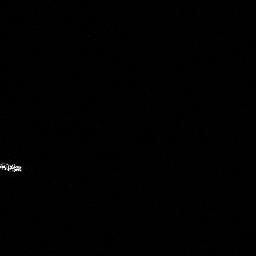ship: (1, 160, 25, 177)
